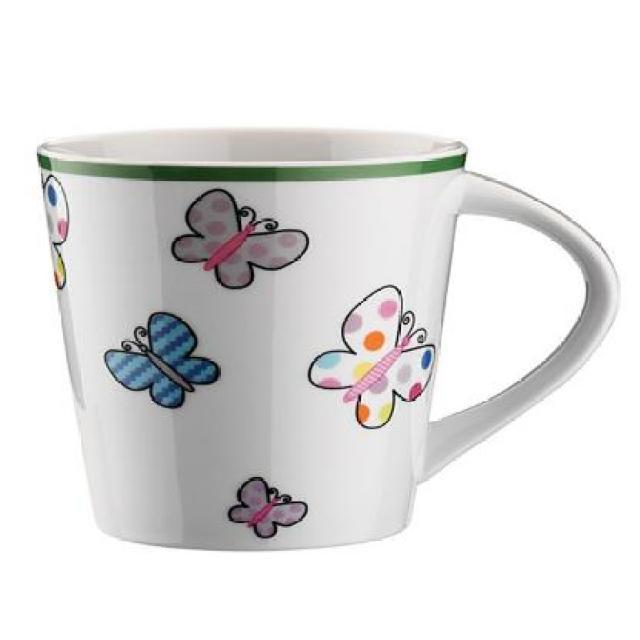taza: (35, 126, 621, 551)
